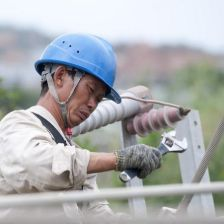helmet: (32, 29, 125, 134)
